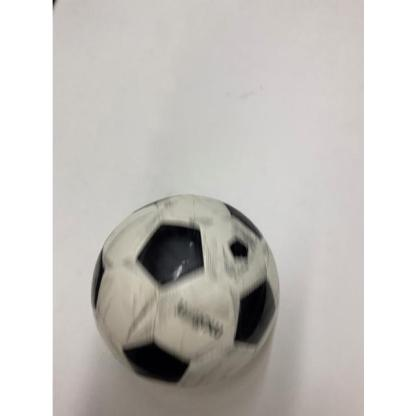ball: (89, 195, 281, 390)
